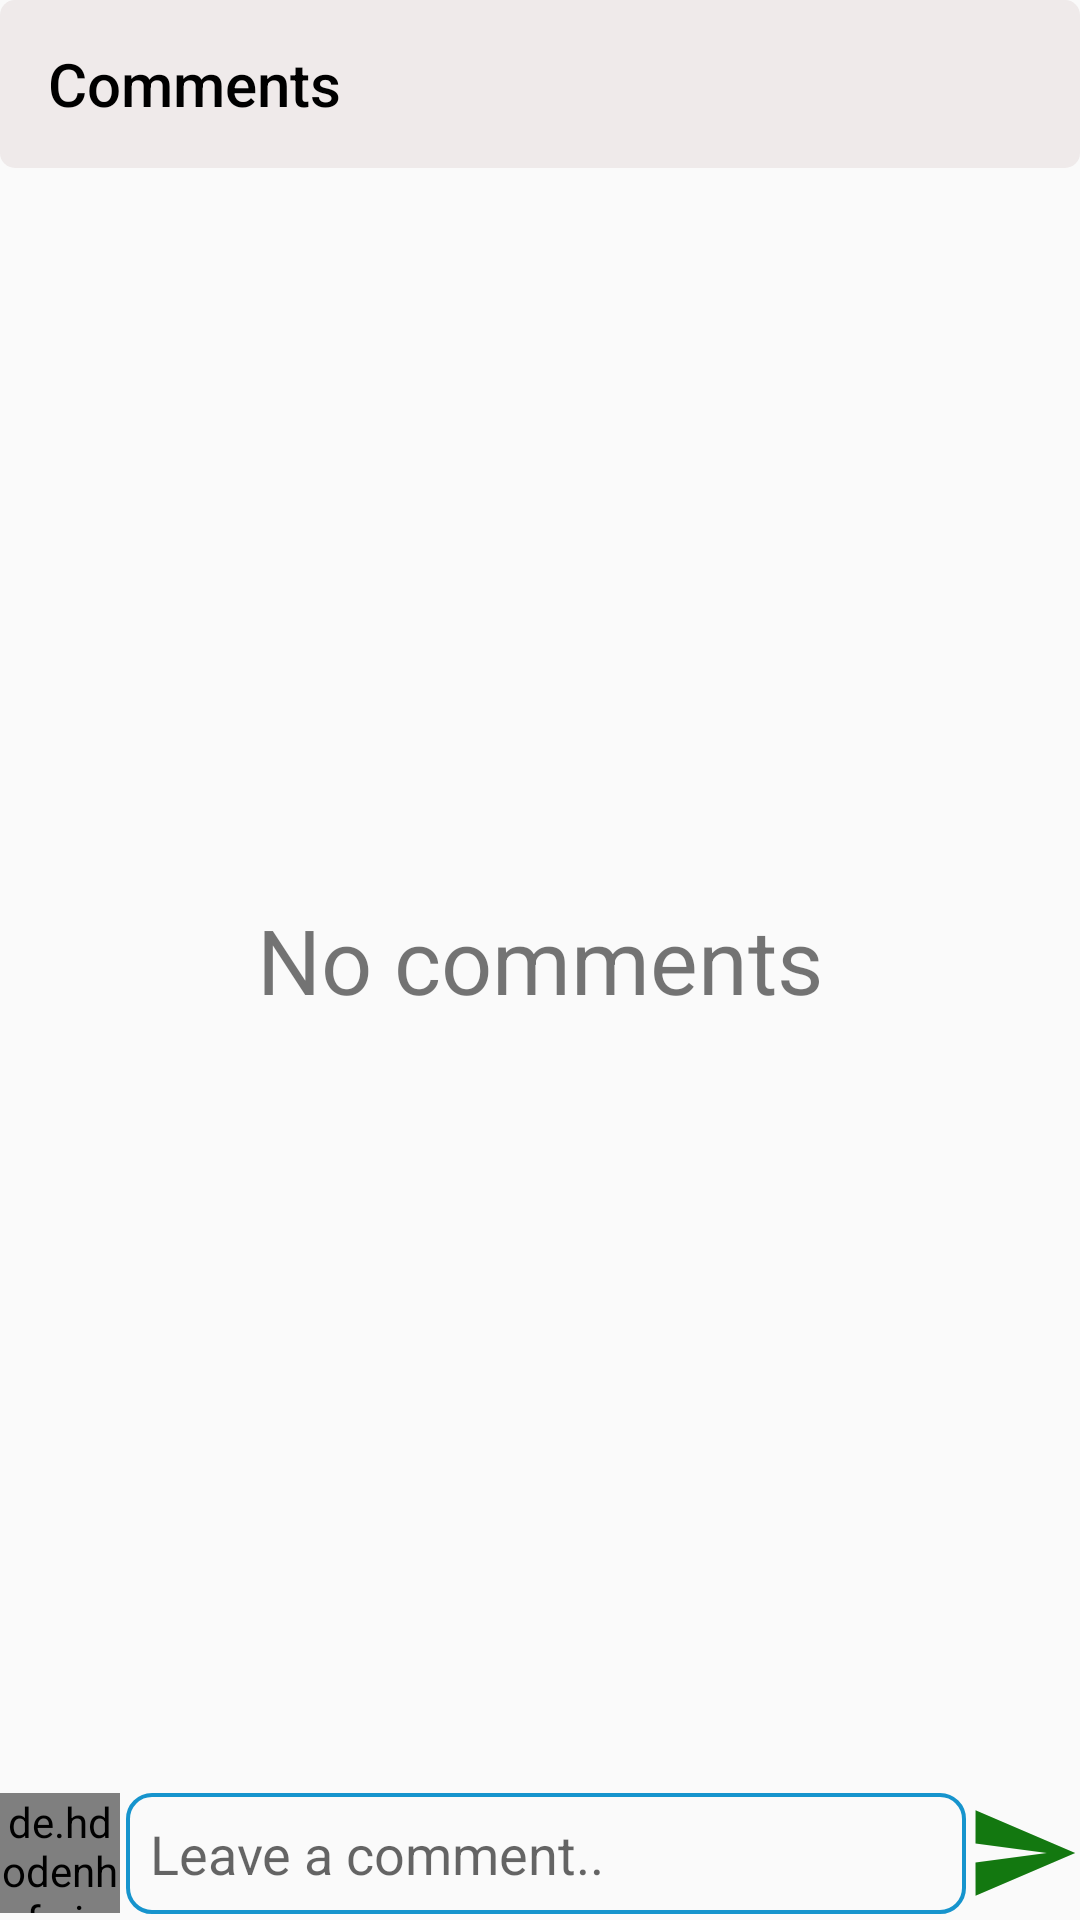

Named icons in this screenshot (1080×1920) and their centers, point (x, y):
send: point (1025, 1853)
